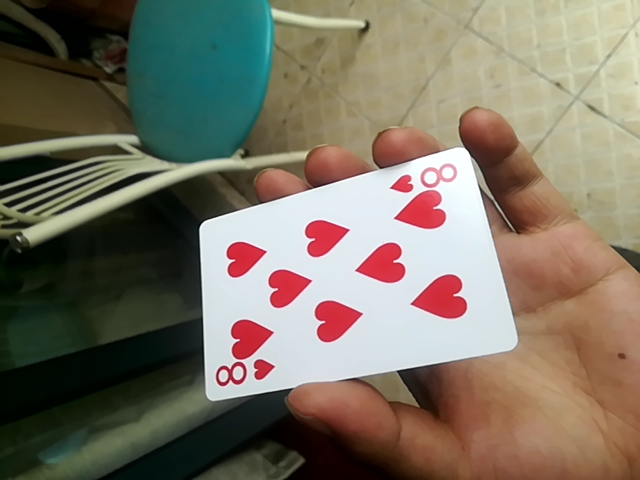hx 8: (193, 147, 513, 406)
